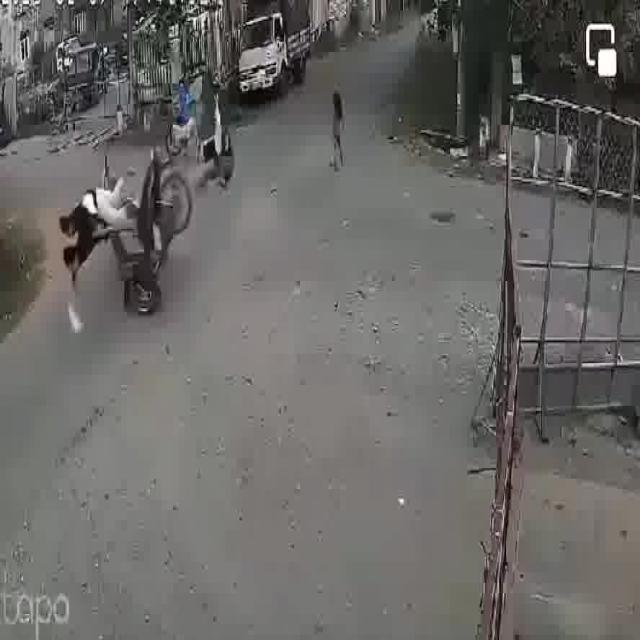multiple_accident: (51, 74, 241, 336)
